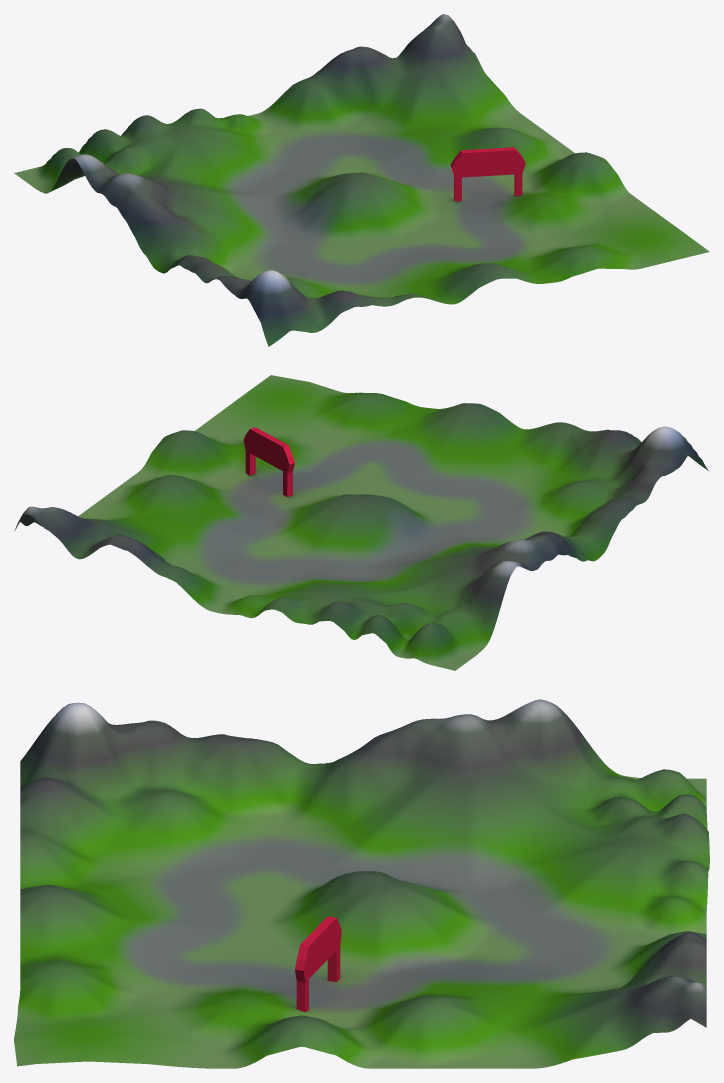
Rendered from terrain.dae.
The picture shows the model from 3 angles, top to bottom: view 1: azimuth 30°, elevation 25°; view 2: azimuth 150°, elevation 25°; view 3: azimuth 270°, elevation 25°; orthographic projection. The views are drawn at different scales.
Visible parts, largest first — view 1: Cube, StartZiel; view 2: Cube, StartZiel; view 3: Cube, StartZiel.
Boxes of the visible parts, left/top/right/bottom form: Cube: left=14, top=14, right=709, bottom=346; StartZiel: left=450, top=147, right=525, bottom=201; Cube: left=14, top=375, right=709, bottom=670; StartZiel: left=243, top=427, right=294, bottom=496; Cube: left=14, top=699, right=709, bottom=1068; StartZiel: left=295, top=916, right=341, bottom=1012.
Size of the model in its own units: 202 by 205 by 36.57.
2 materials, 1 textured.
